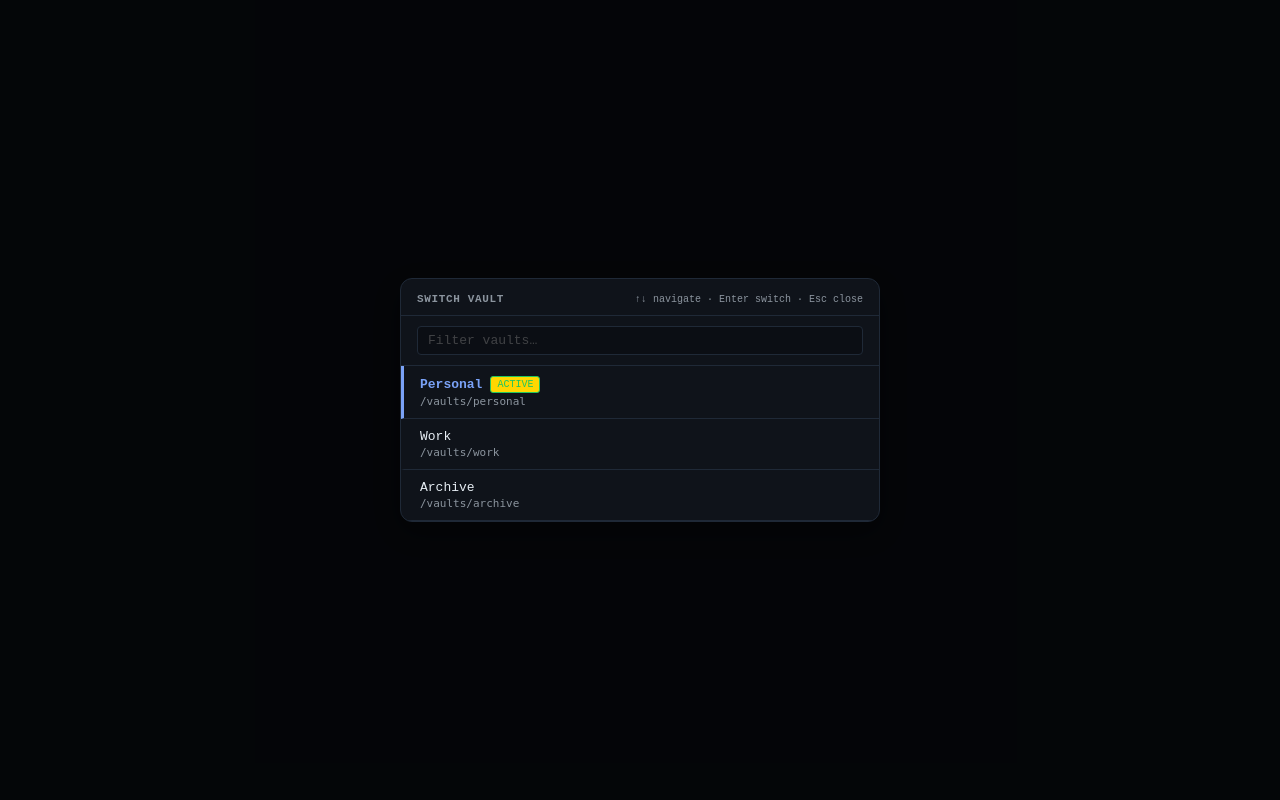
Test: VaultSwitcher › shows a no-match message when the filter matches nothing
In the field with placeholder "Filter vaults…": x=640, y=340 [417,326,863,355], type "nonexistent"
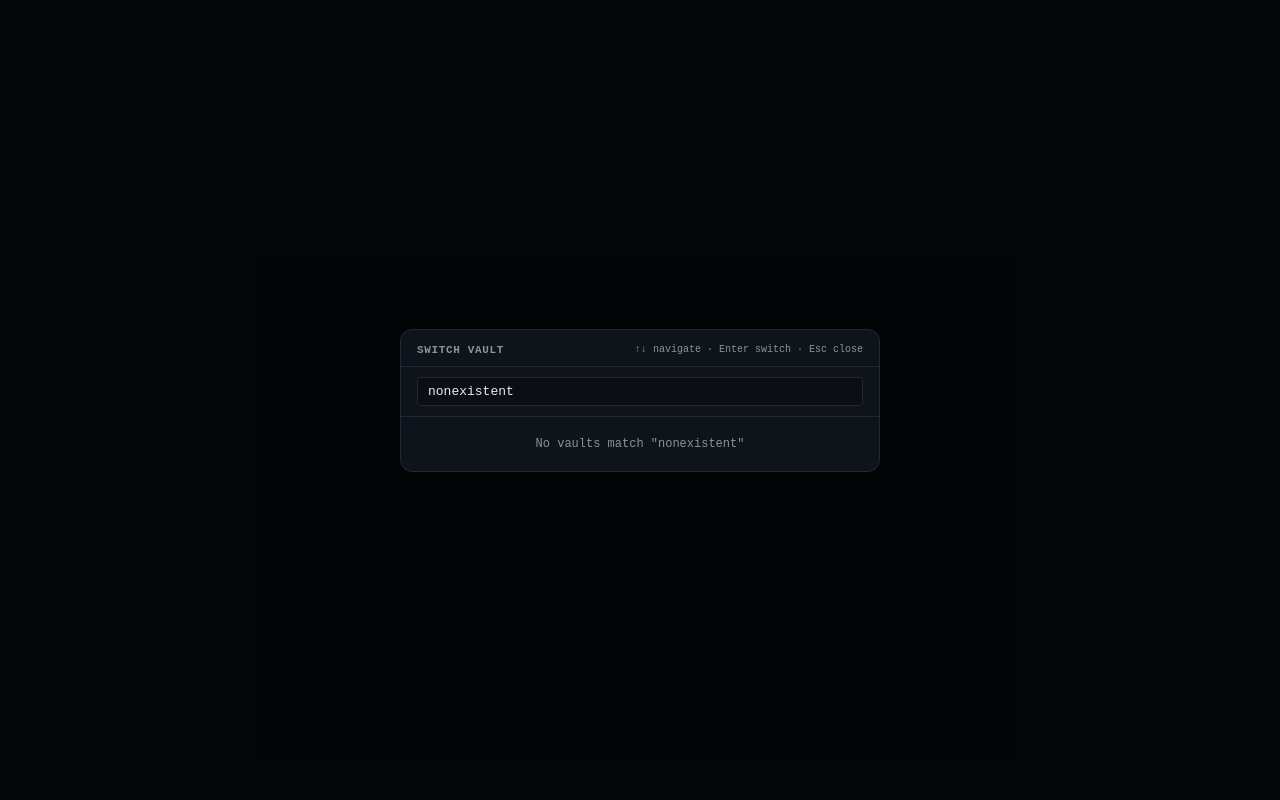
Expected: the text "No vaults match \"nonexistent\"" is shown, [536,436,744,450]
